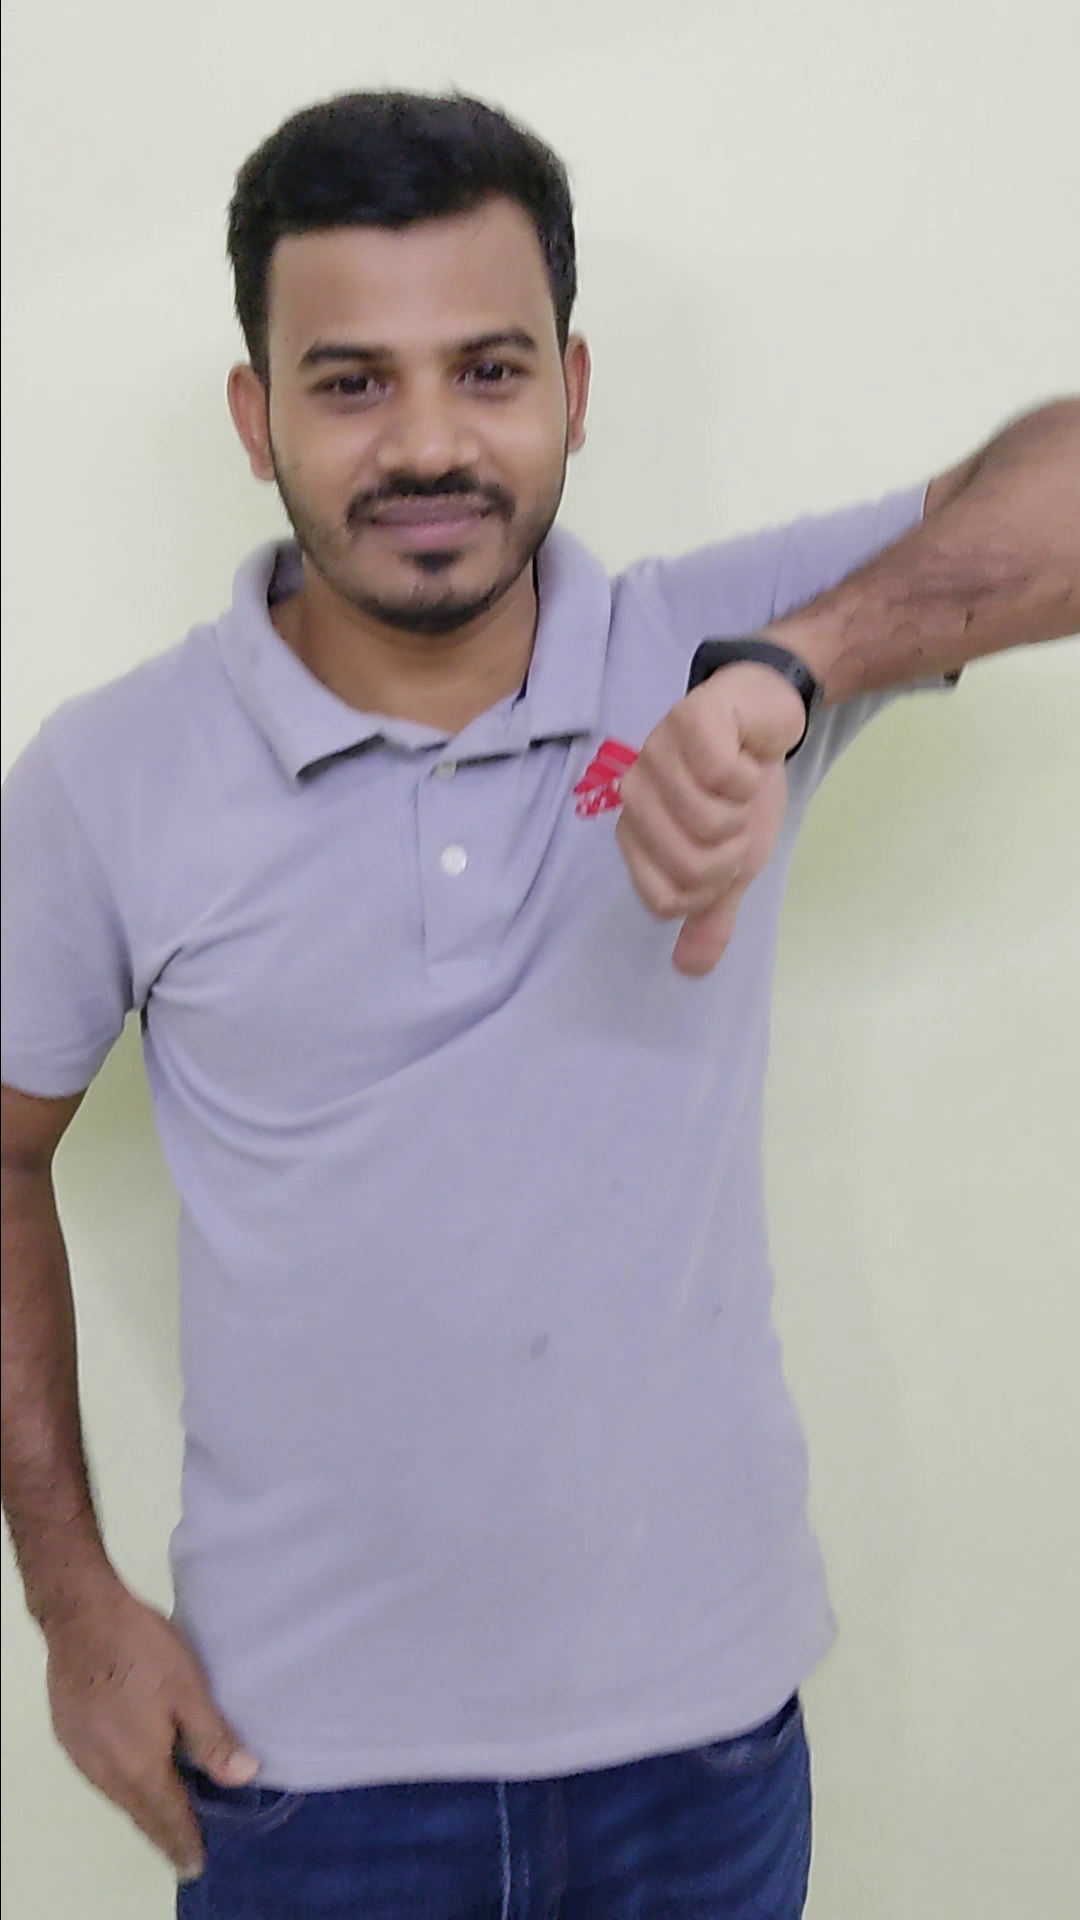Dislike: (596, 622, 823, 997)
None: (22, 1578, 266, 1890)
